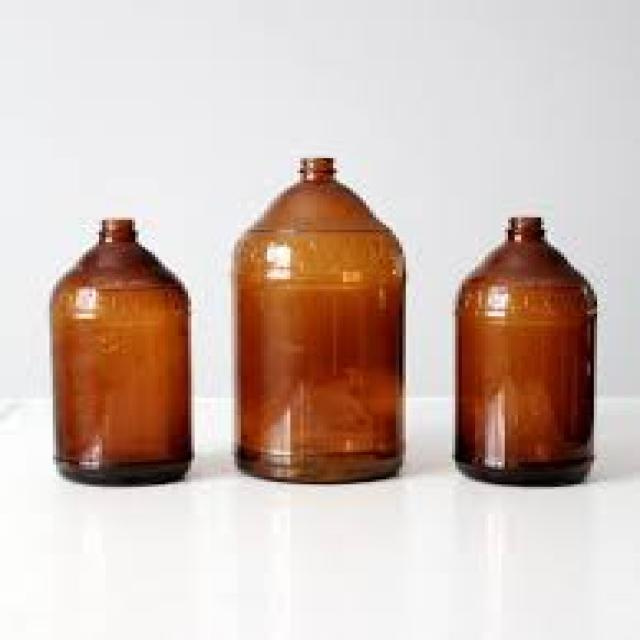glass: (234, 158, 402, 482), (455, 215, 594, 484), (49, 217, 188, 482)
